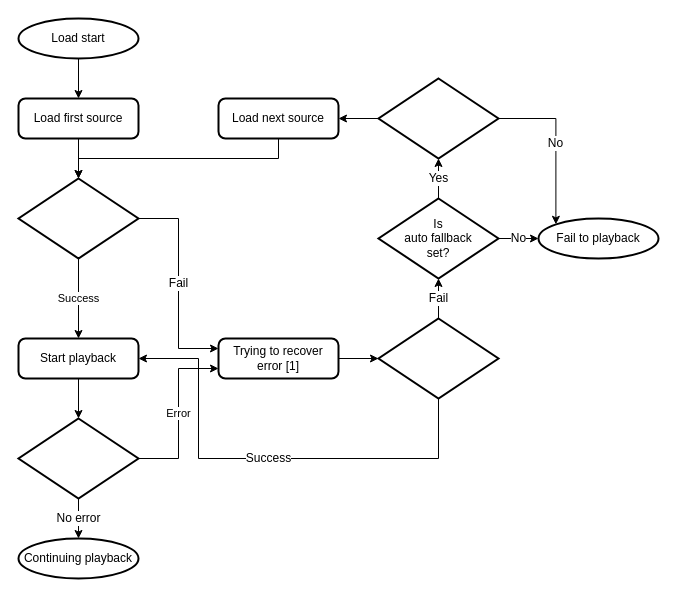
Some shapes in this 676 by 596 pixel diagram are drawn without their labels. The shapes that lost their labels are listed below. From the top down, each one's centre as x and y in pixels, then its label:
the point at 438,118: Have next source?
the point at 78,218: Load success?
the point at 438,358: Recover success?
the point at 78,458: Error while playback?
